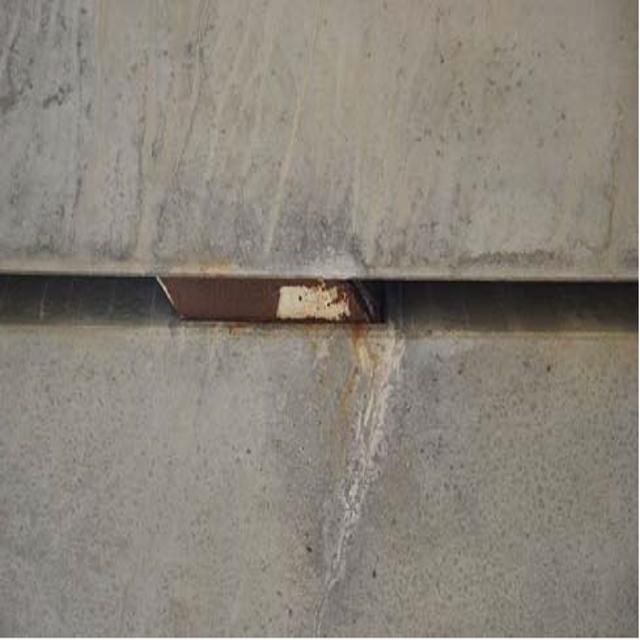corrosion: (147, 263, 413, 334)
freelime: (321, 349, 416, 594)
